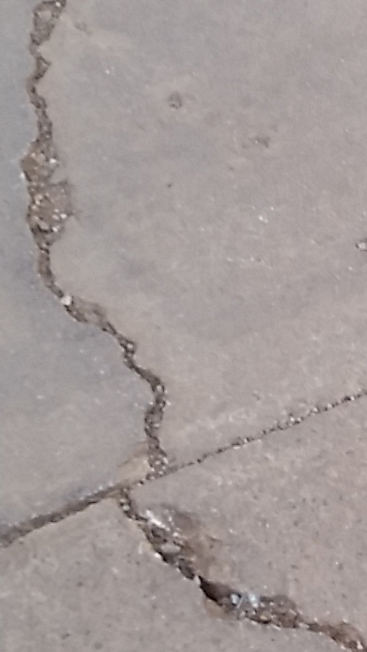A: (15, 4, 365, 645)
